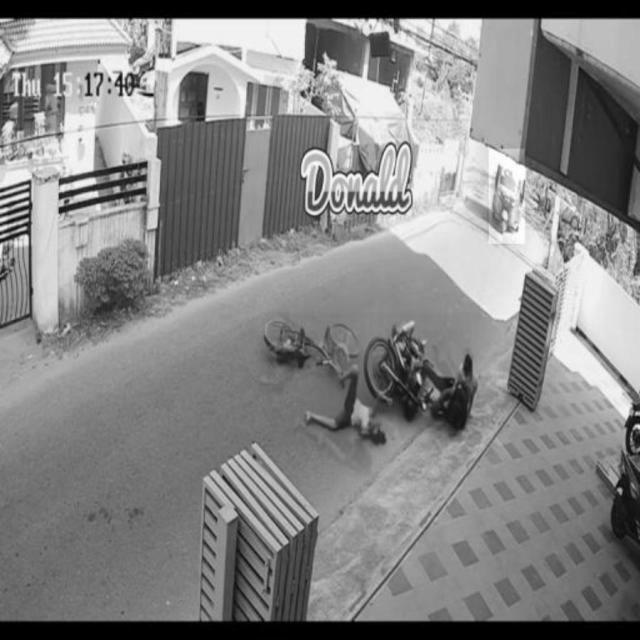accident: (267, 312, 478, 446)
vehicle: (489, 149, 525, 243)
